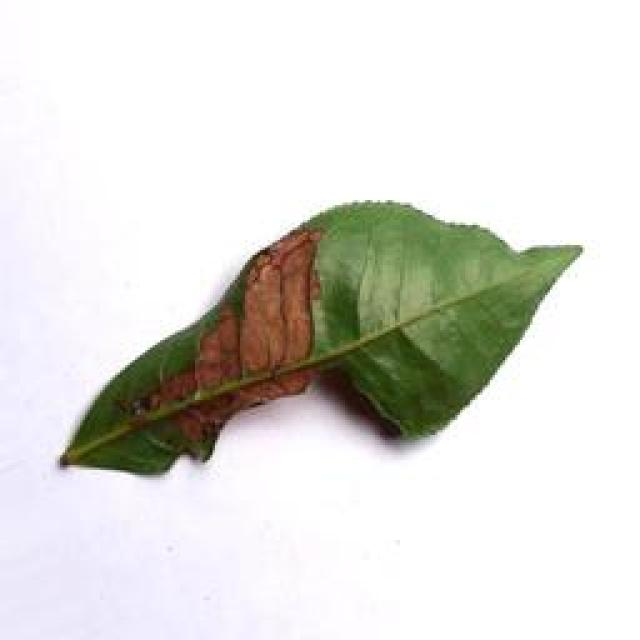Brown Blight: (49, 189, 593, 509)
